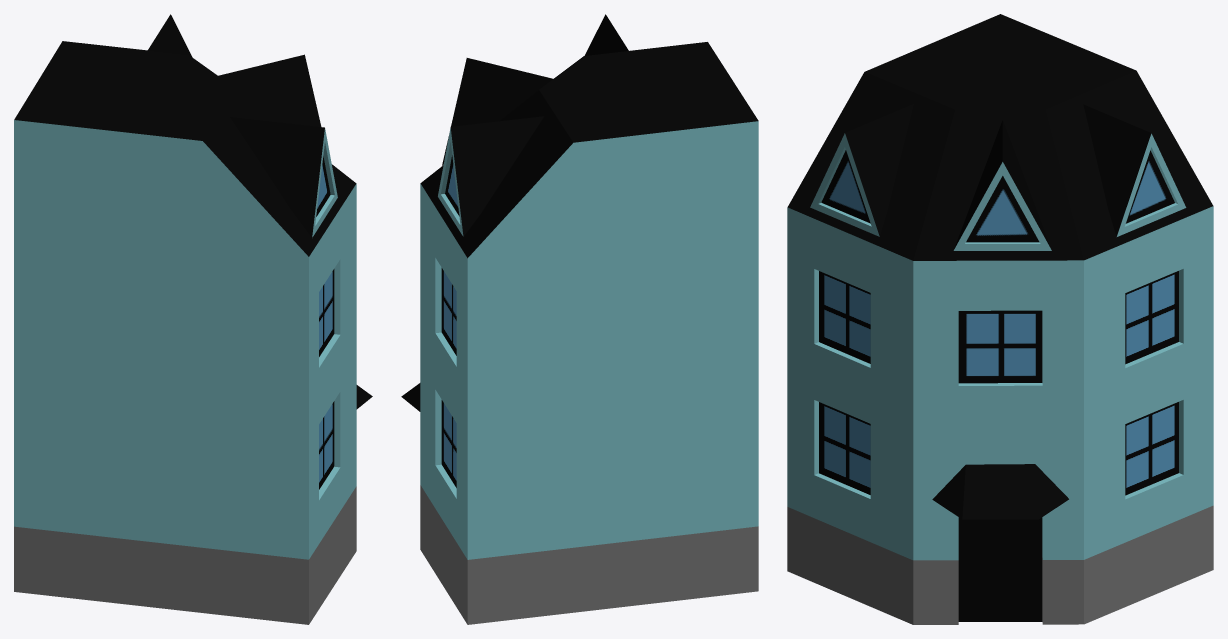
The model's file is moduê4.obj.
3 views of the same model, side by side, from view 1: azimuth 30°, elevation 25°; view 2: azimuth 150°, elevation 25°; view 3: azimuth 270°, elevation 25° (orthographic).
Visible parts, largest first — view 1: Cube.100; view 2: Cube.100; view 3: Cube.100.
Boxes of the visible parts, <box> form: Cube.100: <box>14,14,372,624</box>; Cube.100: <box>401,14,758,624</box>; Cube.100: <box>787,14,1213,624</box>.
Size of the model in its own units: 6.04 by 8.02 by 6.63.
